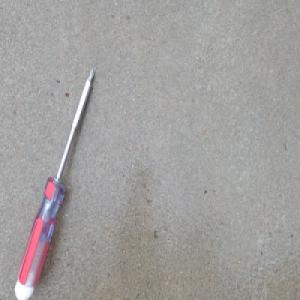Screwdriver: (13, 65, 96, 300)
